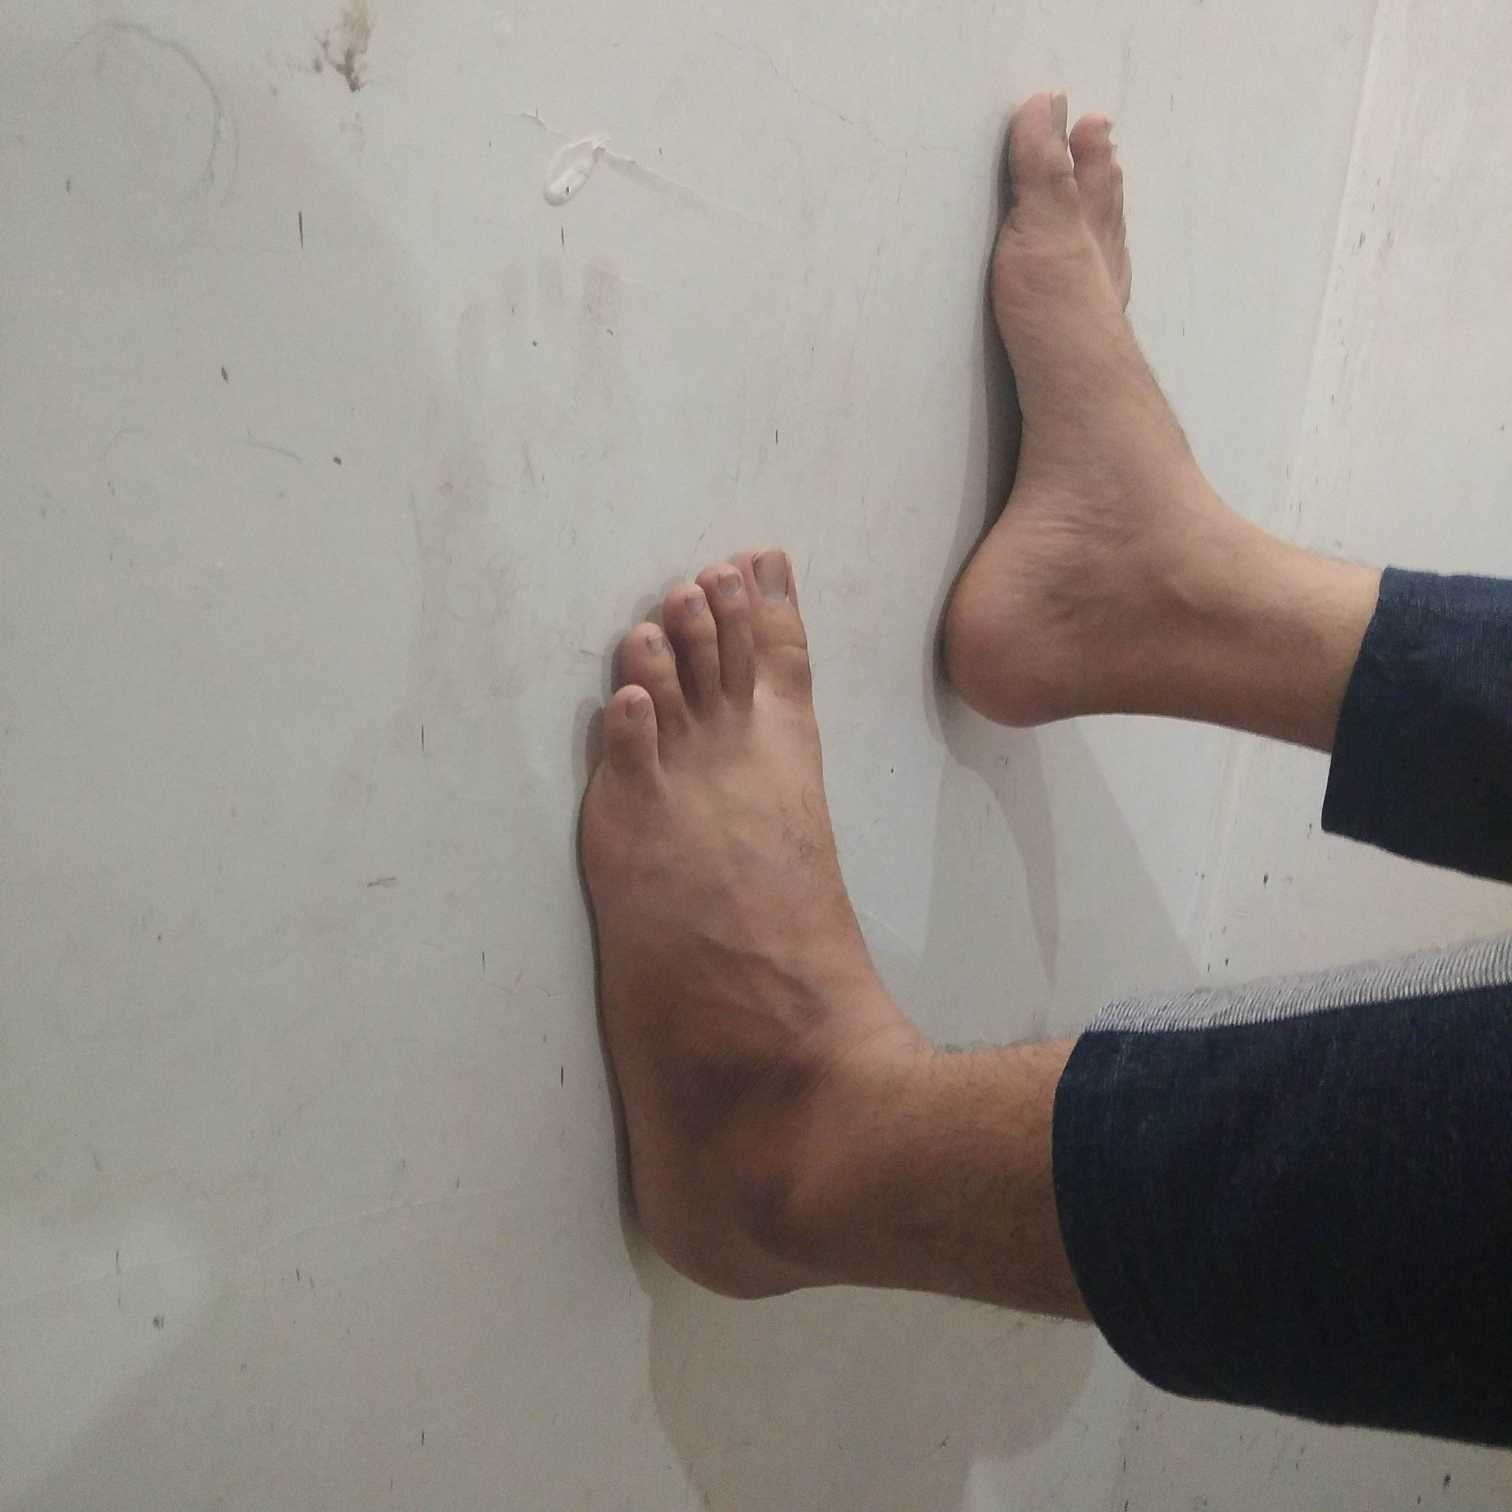foot: (575, 536, 883, 1306), (928, 86, 1191, 728)
